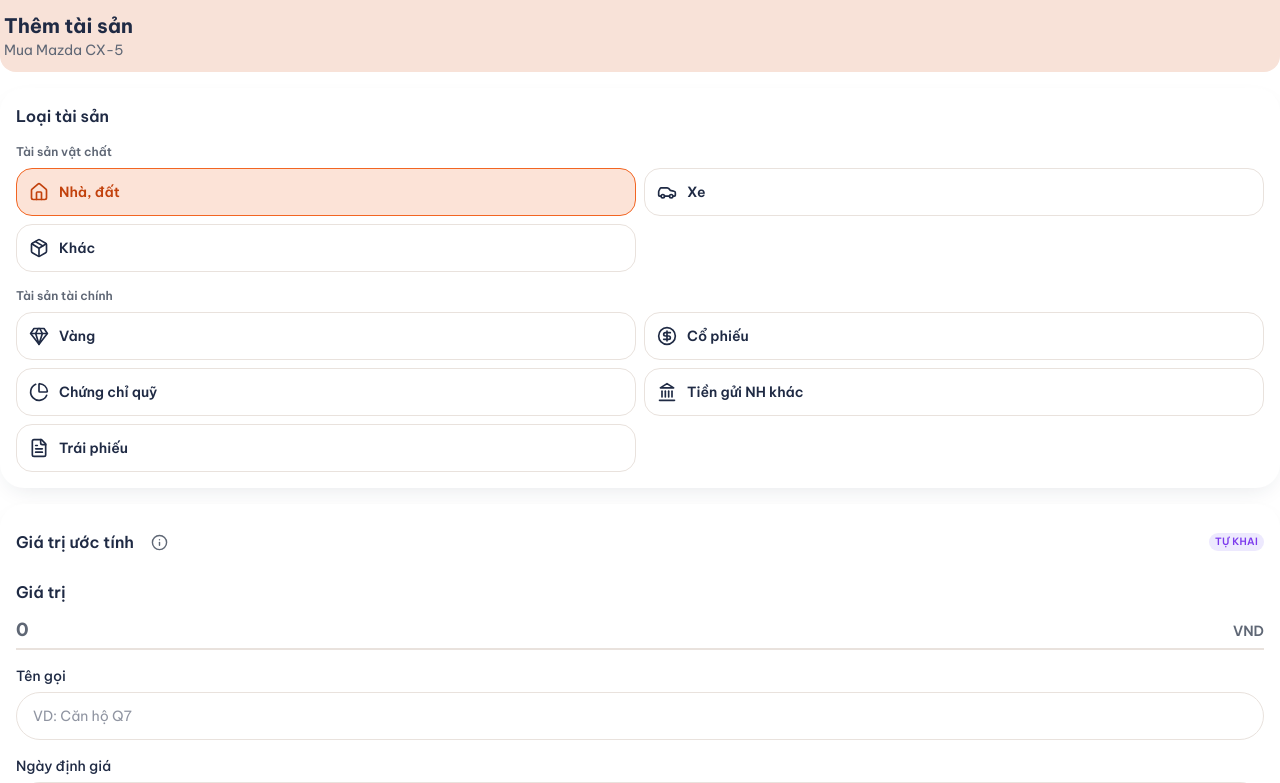
Asset quantity input — parseQtyInput, formatQtyInput and AddAsset screen › AddAsset component quantity field › whole-share stock input ignores '.' and groups '1500'
The image size is (1280, 783).
// Select Cổ phiếu (stock)
Click the button "Cổ phiếu" at (718, 336), box left=644, top=312, right=1264, bottom=360
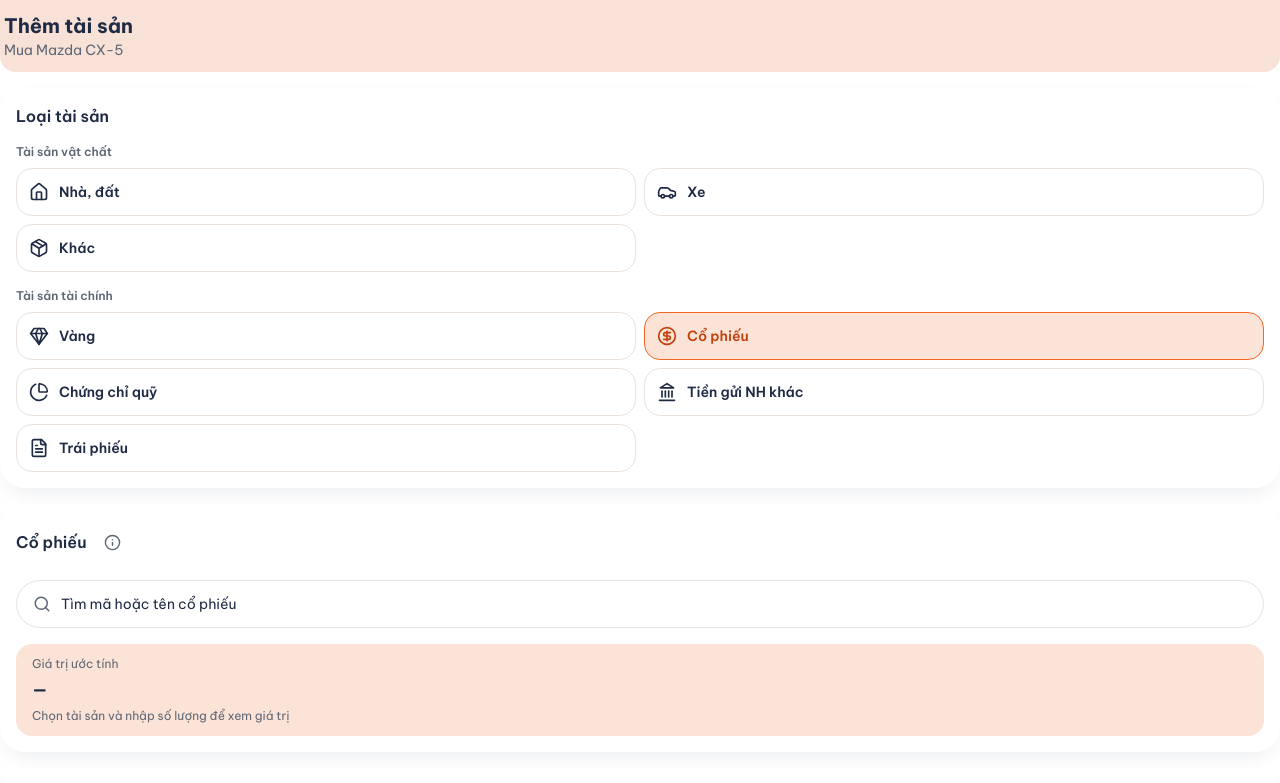
// Select instrument FPT
Click the button "Tìm mã hoặc tên cổ phiếu" at (149, 604), box left=16, top=580, right=1264, bottom=628
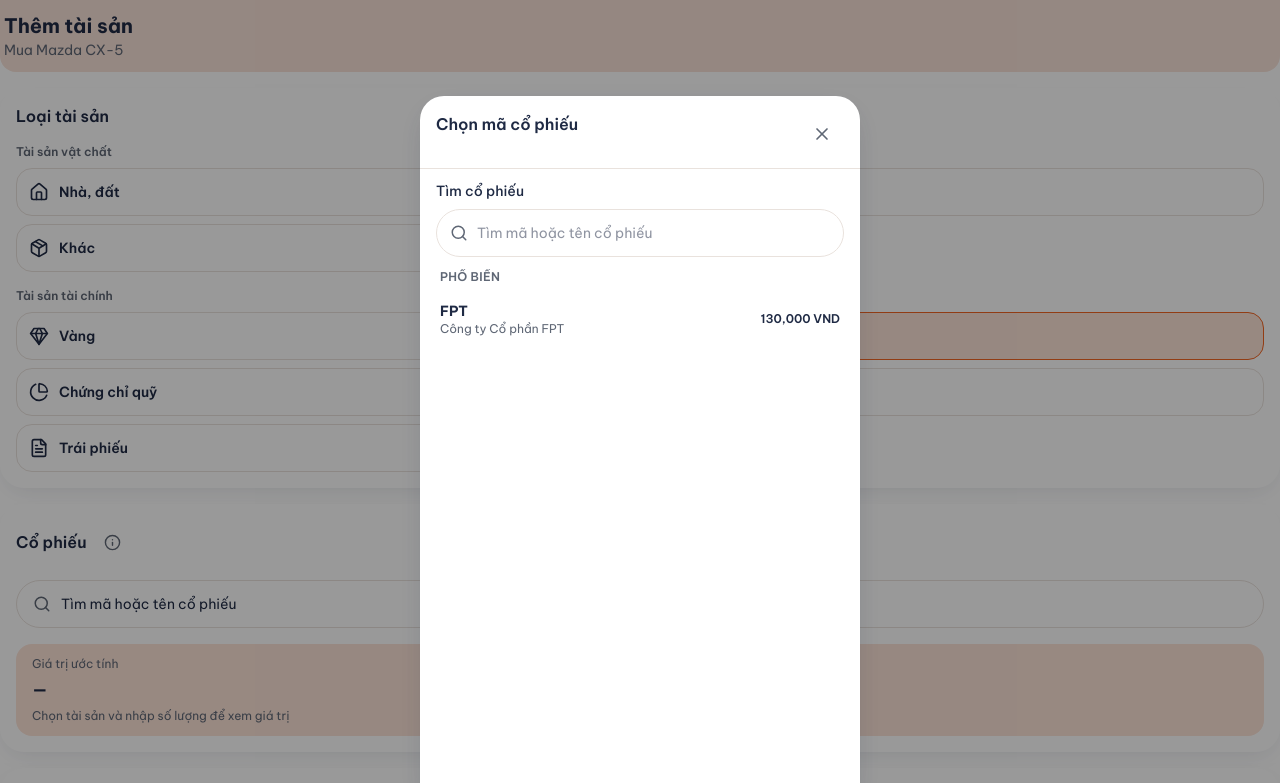
Click the button "FPT Công ty Cổ phần FPT 130,000 VND" at (502, 328), box left=436, top=289, right=844, bottom=349
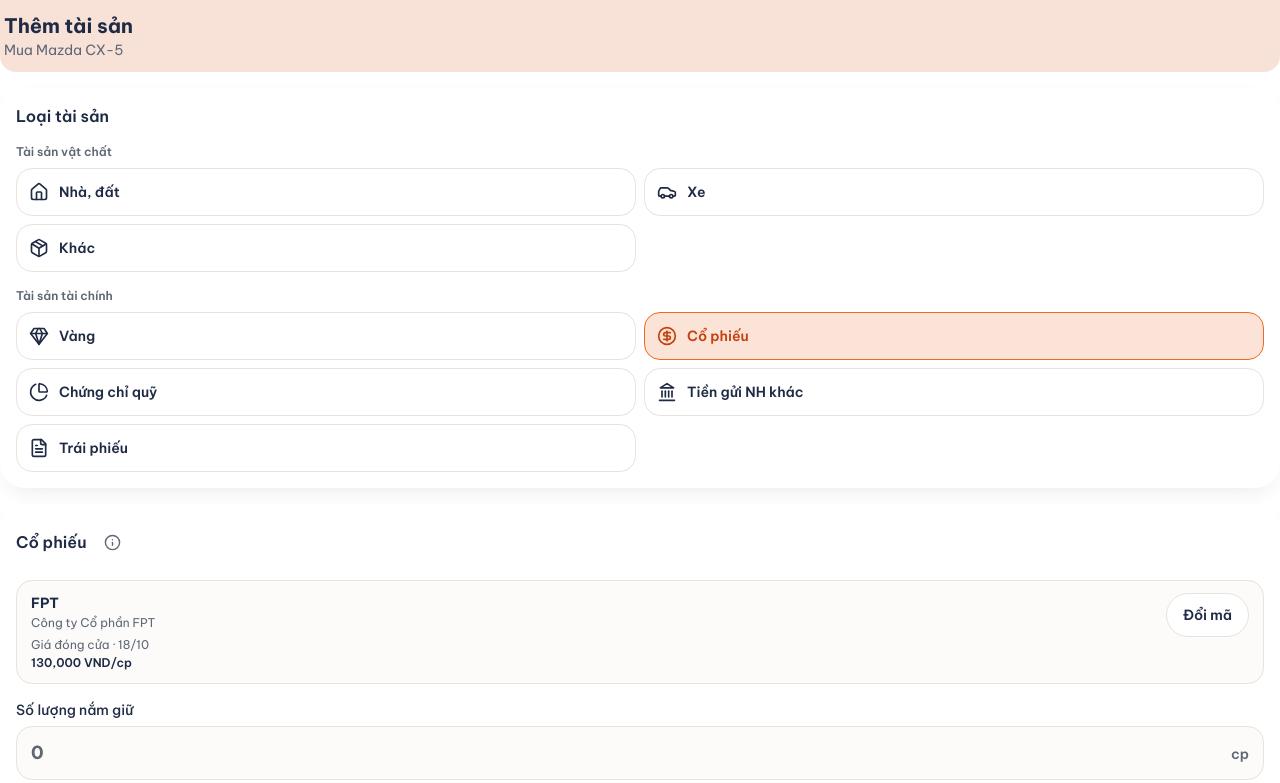
// Type "1500"
Type "1500" into the field labelled "Số lượng nắm giữ" at (627, 753), box left=31, top=739, right=1223, bottom=767
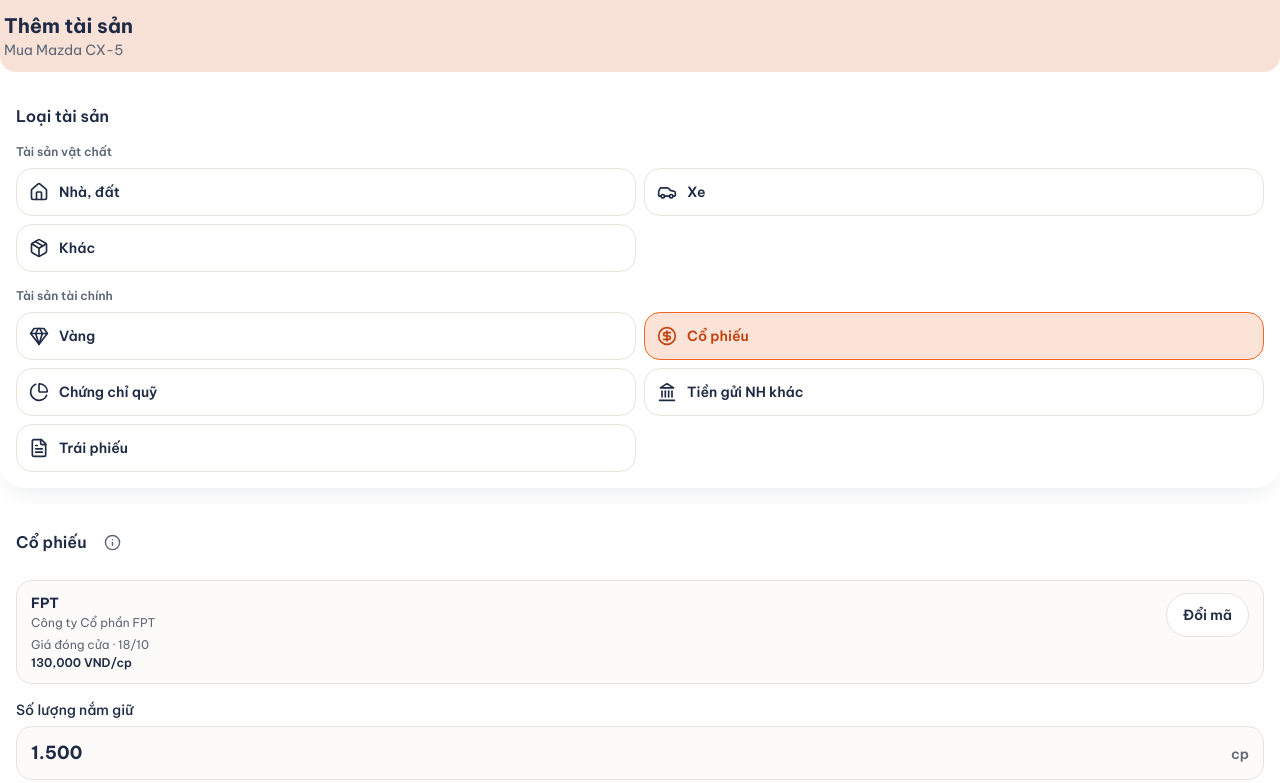
Check: the field labelled "Số lượng nắm giữ" holds "1.500"
Replace the text in the field labelled "Số lượng nắm giữ" with "1.5" at (627, 753), box left=31, top=739, right=1223, bottom=767
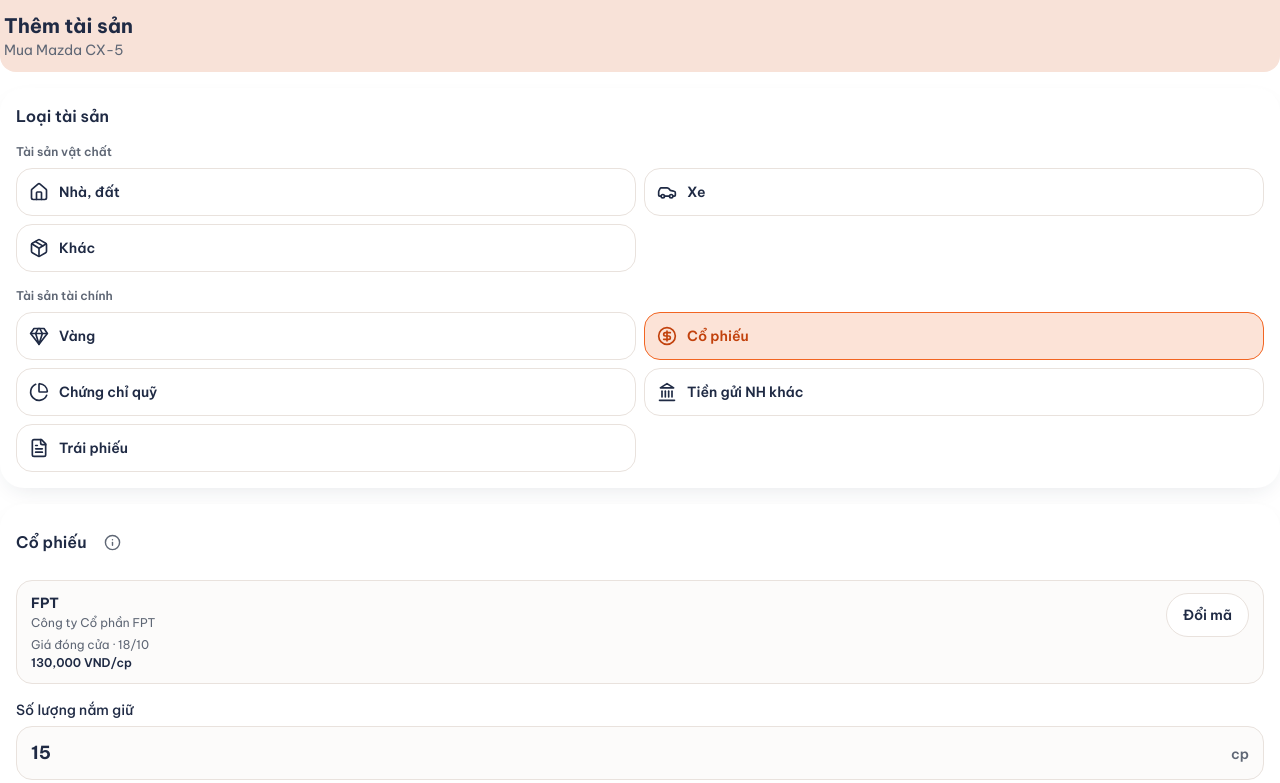
Check: the field labelled "Số lượng nắm giữ" holds "15", box left=31, top=739, right=1223, bottom=767
